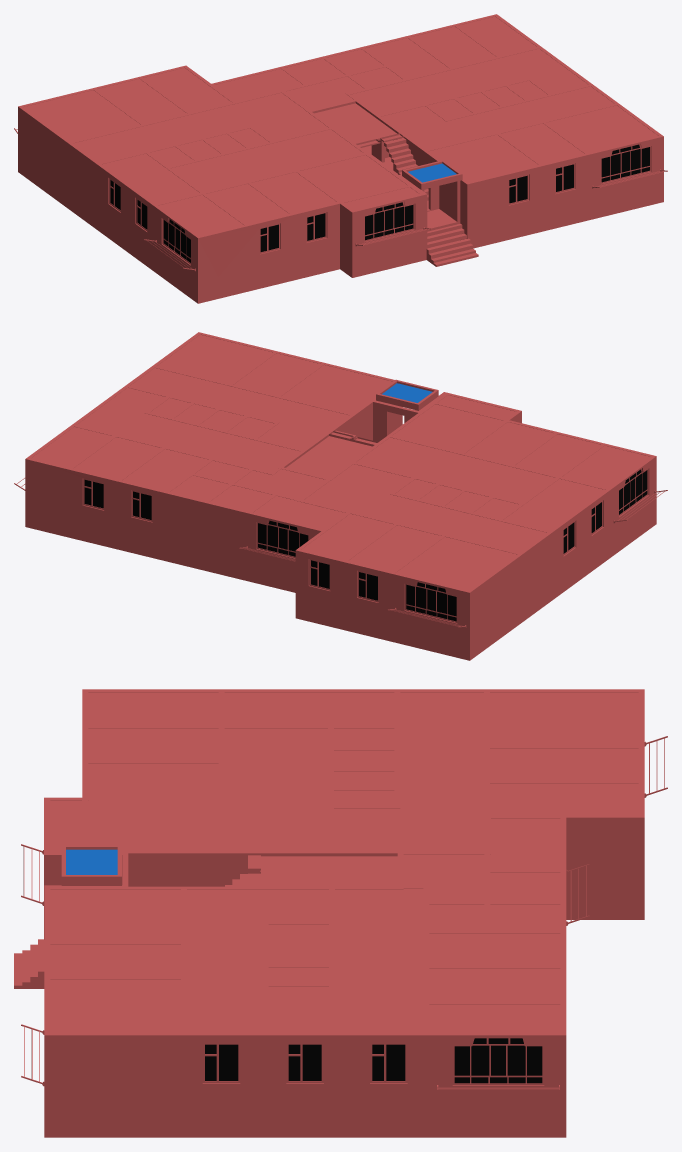
Rendered from SM_house_section_18.fbx.
The picture shows the model from 3 angles, top to bottom: view 1: azimuth 30°, elevation 25°; view 2: azimuth 150°, elevation 25°; view 3: azimuth 270°, elevation 25°; orthographic projection. The views are drawn at different scales.
Visible parts, largest first — view 1: Plane_5; view 2: Plane_5; view 3: Plane_5.
Part boxes in pixels (left/top/right/bottom): Plane_5: left=14, top=14, right=667, bottom=303; Plane_5: left=14, top=332, right=667, bottom=660; Plane_5: left=14, top=689, right=667, bottom=1137.
Bounding box in the file's own units: 2870 × 409 × 2171.
